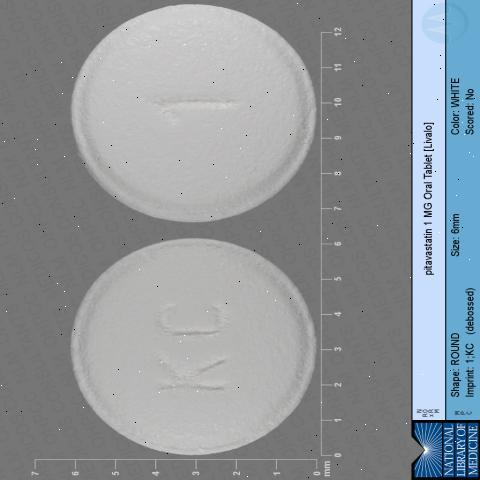Pill: (30, 241, 324, 480), (47, 6, 319, 236)
